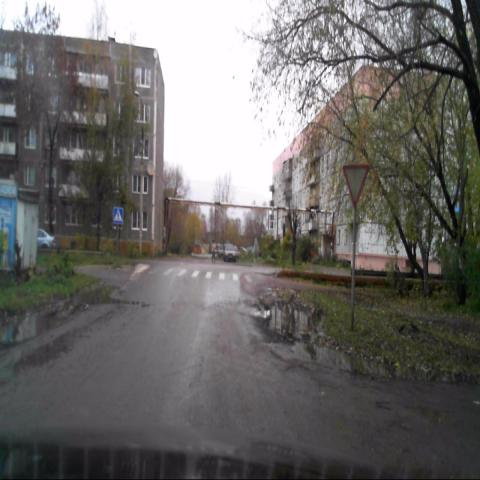1_31: (341, 164, 369, 207)
